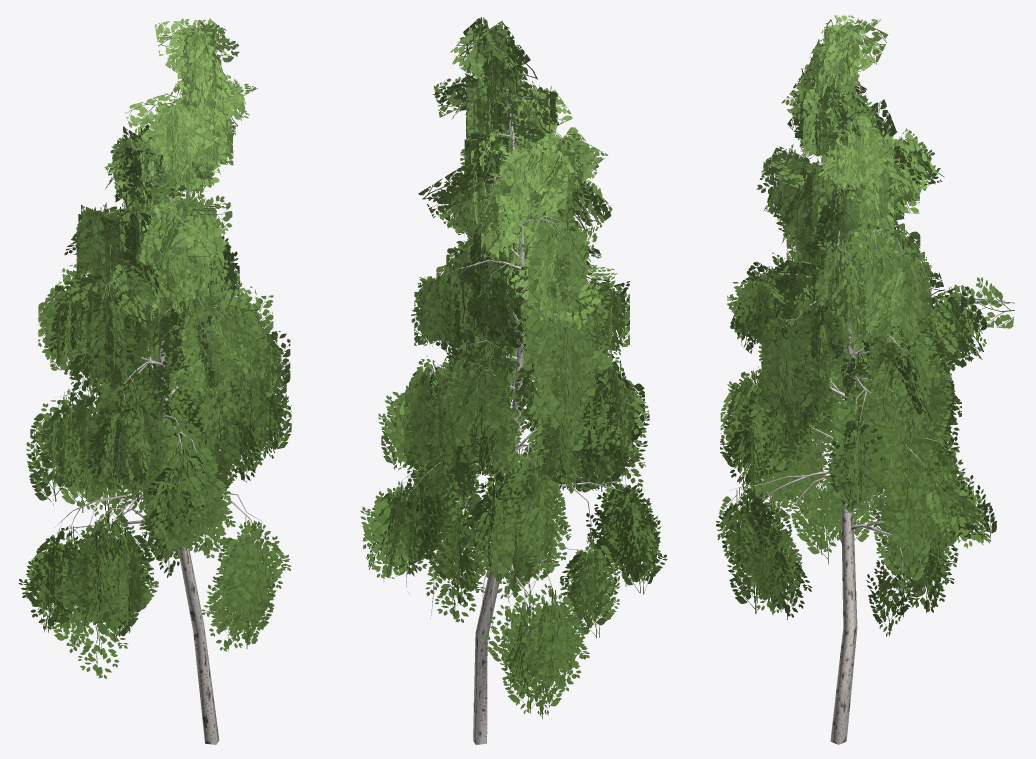
Rendered from birch_tree_0_lod1.gltf.
The picture shows the model from 3 angles, left to right: view 1: azimuth 30°, elevation 25°; view 2: azimuth 150°, elevation 25°; view 3: azimuth 270°, elevation 25°; orthographic projection.
Visible parts, largest first — view 1: birch_tree_0_lod1; view 2: birch_tree_0_lod1; view 3: birch_tree_0_lod1.
Boxes of the visible parts, x1=… form: birch_tree_0_lod1: x1=18, y1=18, x2=291, y2=744; birch_tree_0_lod1: x1=360, y1=17, x2=667, y2=744; birch_tree_0_lod1: x1=715, y1=15, x2=1014, y2=744.
Bounding box in the file's own units: 3.85 × 9.3 × 3.68.
2 materials, 2 textured.
